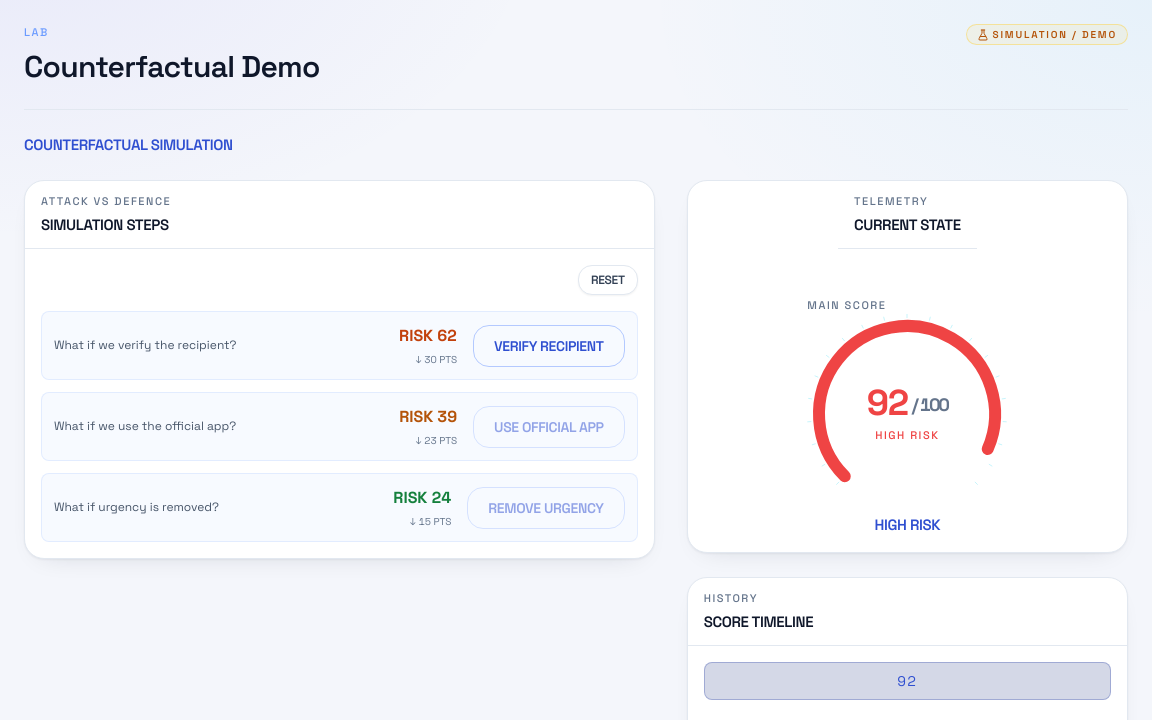
Counterfactual › handles steps and shows final text
This screenshot has width=1152, height=720.
Check: the text "ATTACK vs DEFENCE" is shown, box [41, 193, 171, 210]
Step 1. Click the button "VERIFY RECIPIENT" → (549, 346), box [473, 324, 625, 366]
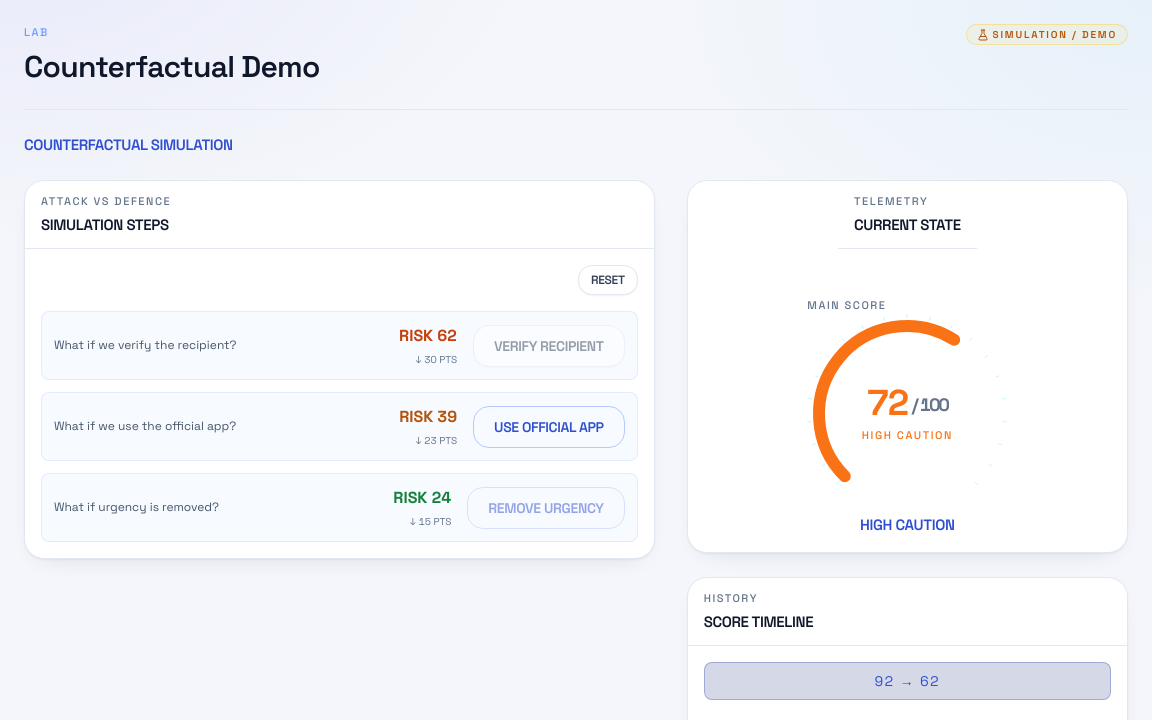
Check: the button "USE OFFICIAL APP" is enabled
Step 2. Click the button "USE OFFICIAL APP" → (549, 426), box [473, 406, 625, 448]
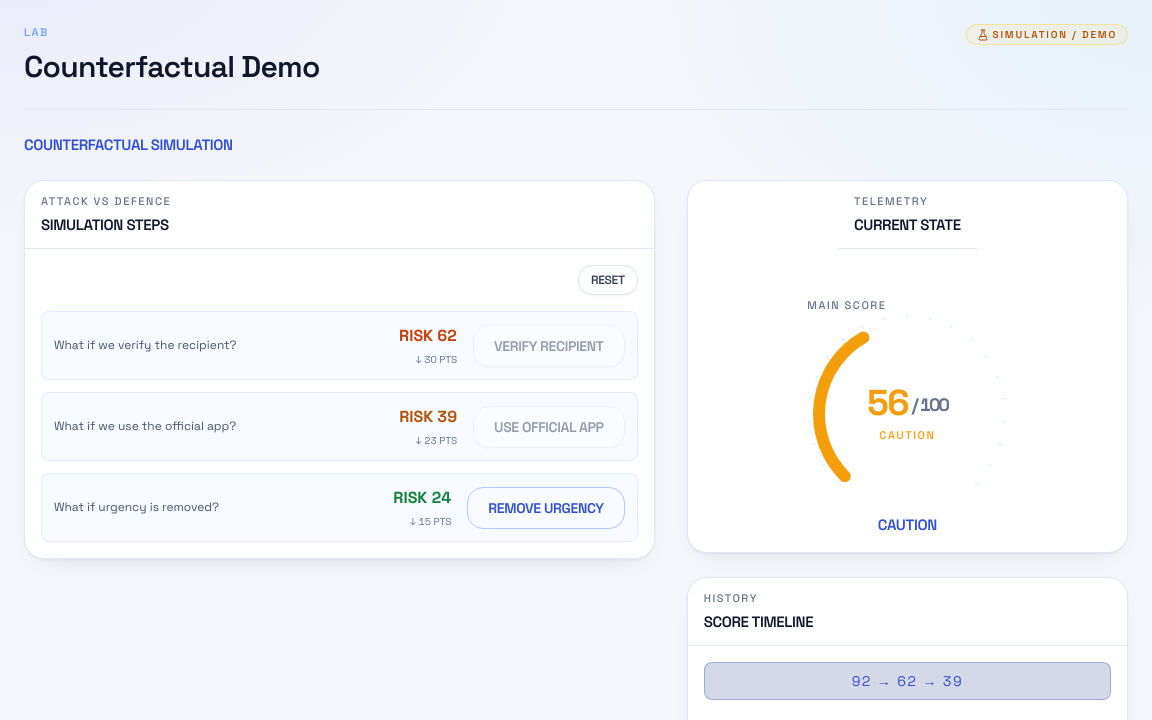
Check: the button "REMOVE URGENCY" is enabled
Step 3. Click the button "REMOVE URGENCY" → (546, 508), box [467, 486, 625, 528]
(page scrolled)
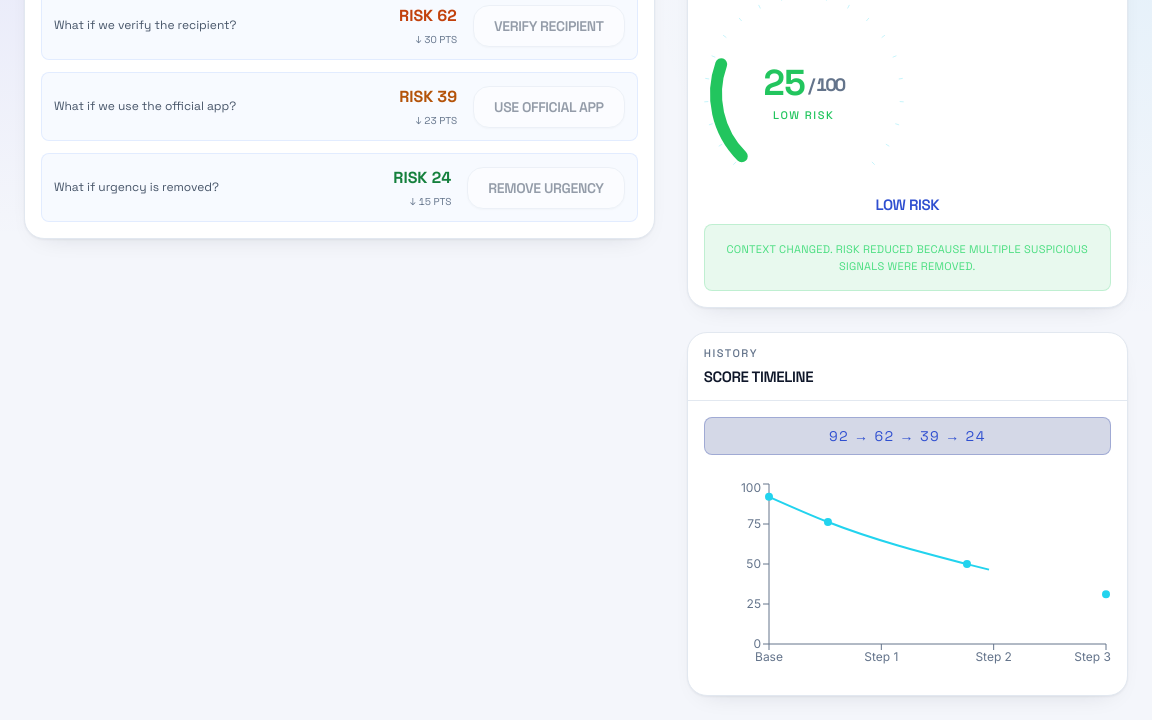
Check: the text "Context changed. Risk reduced because multiple suspicious signals were removed." is shown, box [704, 224, 1111, 291]
Check: the text "92 → 62 → 39 → 24" is shown, box [704, 417, 1111, 455]
